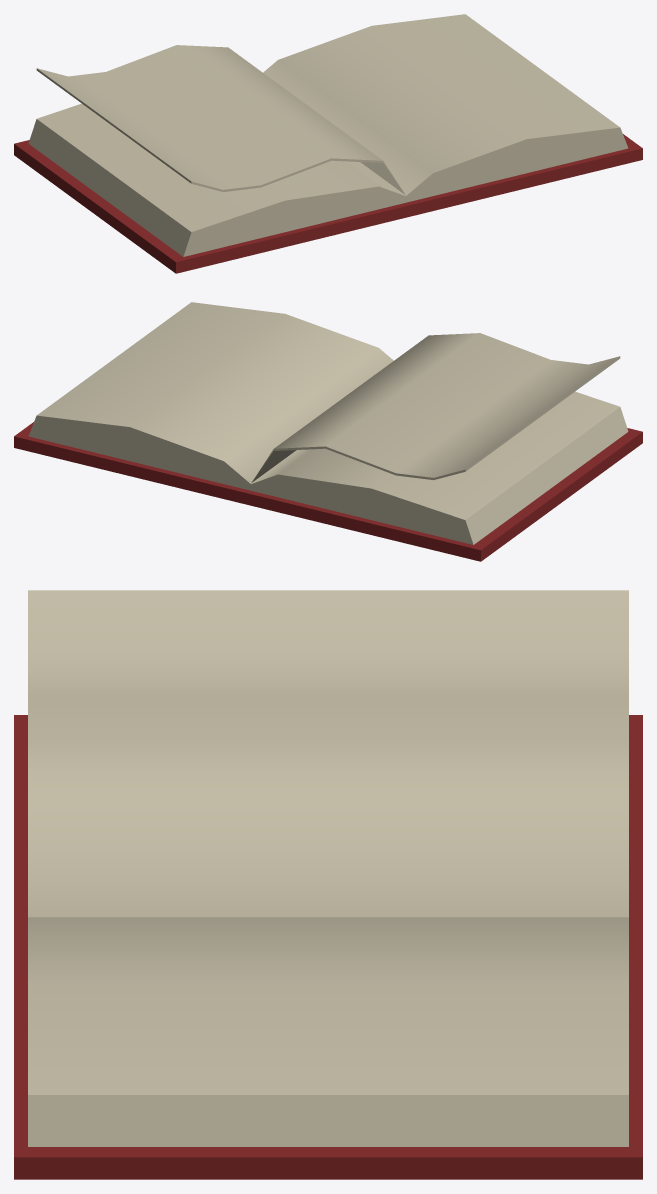
File: 09_prop_book.FBX
The picture shows the model from 3 angles, top to bottom: view 1: azimuth 30°, elevation 25°; view 2: azimuth 150°, elevation 25°; view 3: azimuth 270°, elevation 25°; orthographic projection. The views are drawn at different scales.
Visible parts, largest first — view 1: prop_book; view 2: prop_book; view 3: prop_book.
Part boxes in pixels (x1,y1,x2,y2): prop_book: (14,14,642,273); prop_book: (14,302,642,561); prop_book: (14,590,642,1179).
Size of the model in its own units: 32.22 by 5.61 by 19.37.
